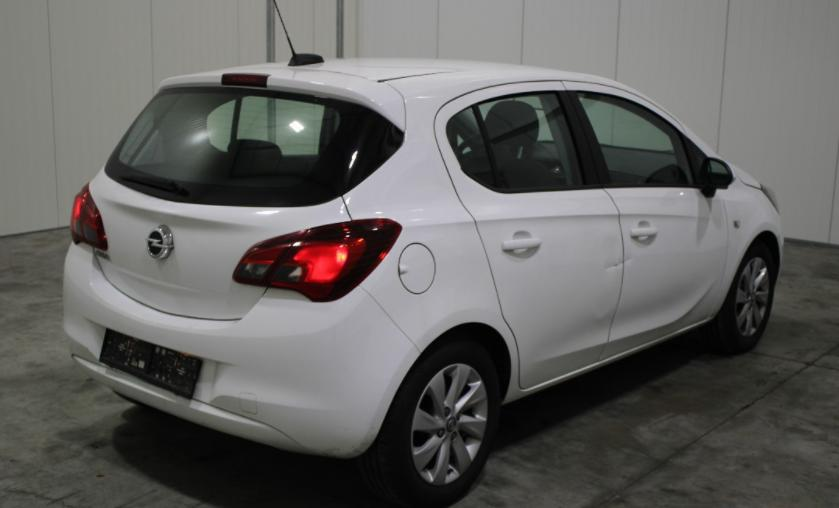Back-bumper: (63, 239, 421, 459)
Back-door: (434, 81, 623, 389)
Back-wheel: (356, 329, 500, 508)
Back-window: (447, 90, 583, 193)
Back-windshield: (105, 86, 403, 207)
Fender: (708, 177, 784, 318)
Front-door: (561, 81, 728, 361)
Front-wheel: (699, 239, 775, 355)
Front-window: (576, 91, 696, 188)
Headlight: (759, 183, 779, 214)
Hood: (727, 161, 761, 190)
License-plate: (100, 328, 203, 395)
Mirror: (699, 157, 736, 198)
Quarter-panel: (342, 181, 521, 405)
Rocker-panel: (521, 317, 715, 398)
Roof: (250, 58, 554, 82)
Tail-light: (234, 219, 401, 302), (70, 182, 108, 251), (221, 73, 269, 88)
Trunk: (89, 163, 352, 319), (158, 66, 406, 132)
